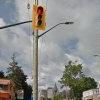traffic lights: (32, 2, 48, 32)
